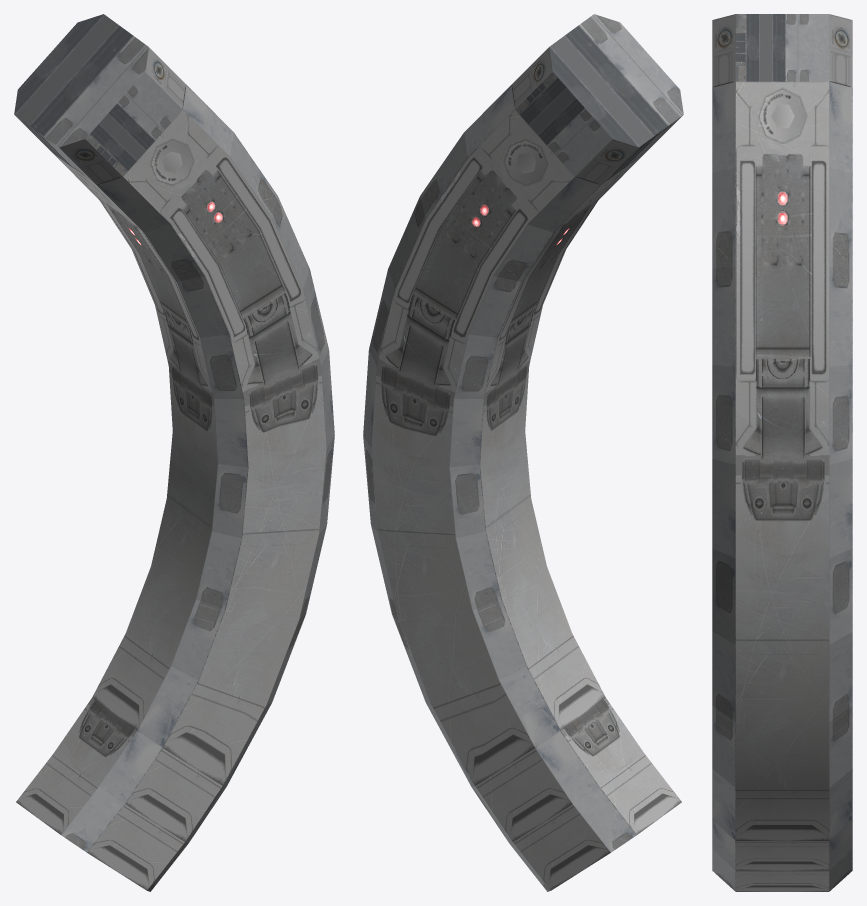
The model's file is SM_PillarsB_acc.fbx.
The picture shows the model from 3 angles, left to right: view 1: azimuth 30°, elevation 25°; view 2: azimuth 150°, elevation 25°; view 3: azimuth 270°, elevation 25°; orthographic projection. The views are drawn at different scales.
Visible parts, largest first — view 1: SM_PillarsB_acc_LOD0; view 2: SM_PillarsB_acc_LOD0; view 3: SM_PillarsB_acc_LOD0.
Boxes of the visible parts, x1,y1,x2,y2 form: SM_PillarsB_acc_LOD0: (14, 14, 334, 891); SM_PillarsB_acc_LOD0: (363, 14, 683, 891); SM_PillarsB_acc_LOD0: (712, 14, 852, 891).
Bounding box in the file's own units: 141 × 60 × 414.
2 materials, 2 textured.
